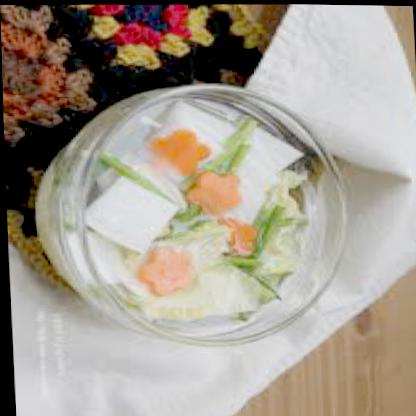nabak Kimchi: (51, 95, 322, 329)
